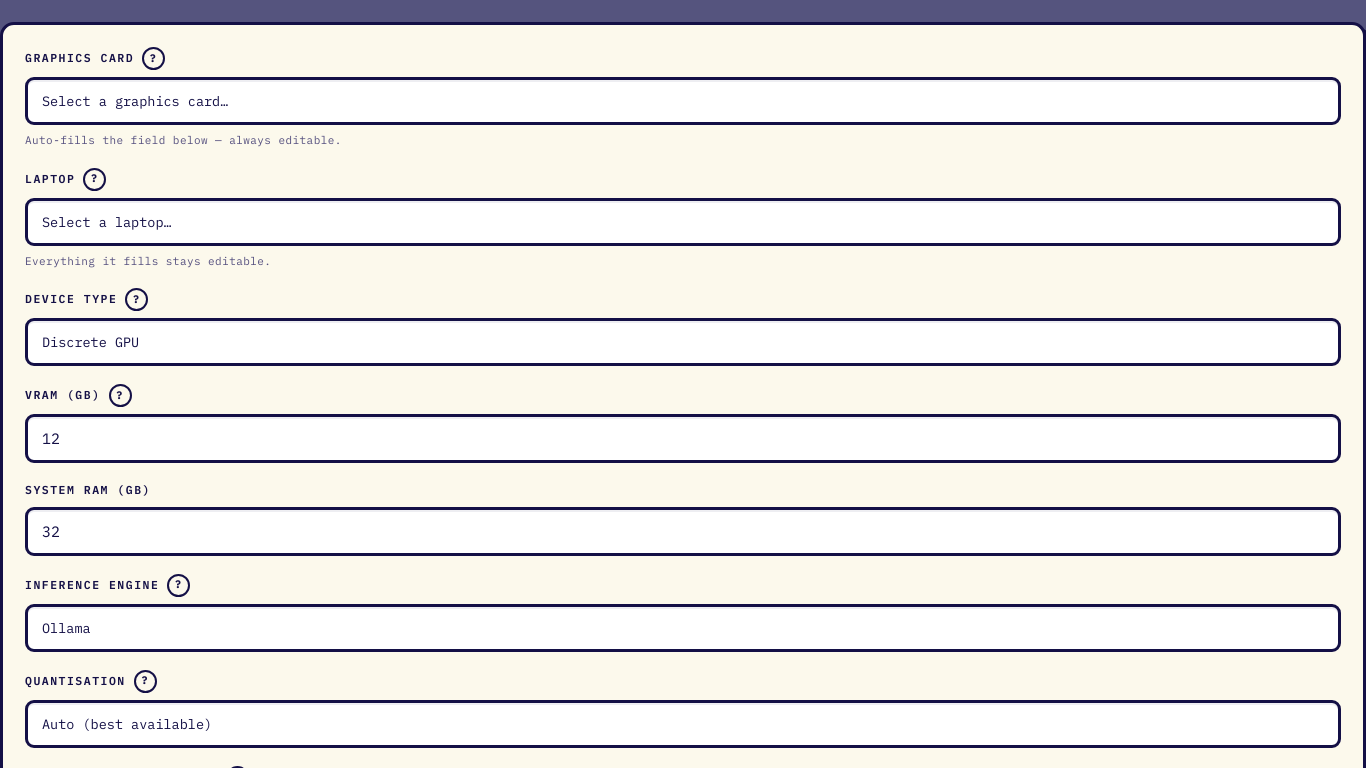
Test: HardwarePanel › writes a manual VRAM edit straight into form state
Replace the text in the number field labelled "VRAM (GB) ?" with "24": (683, 439) [25,414,1341,463]
(page scrolled)
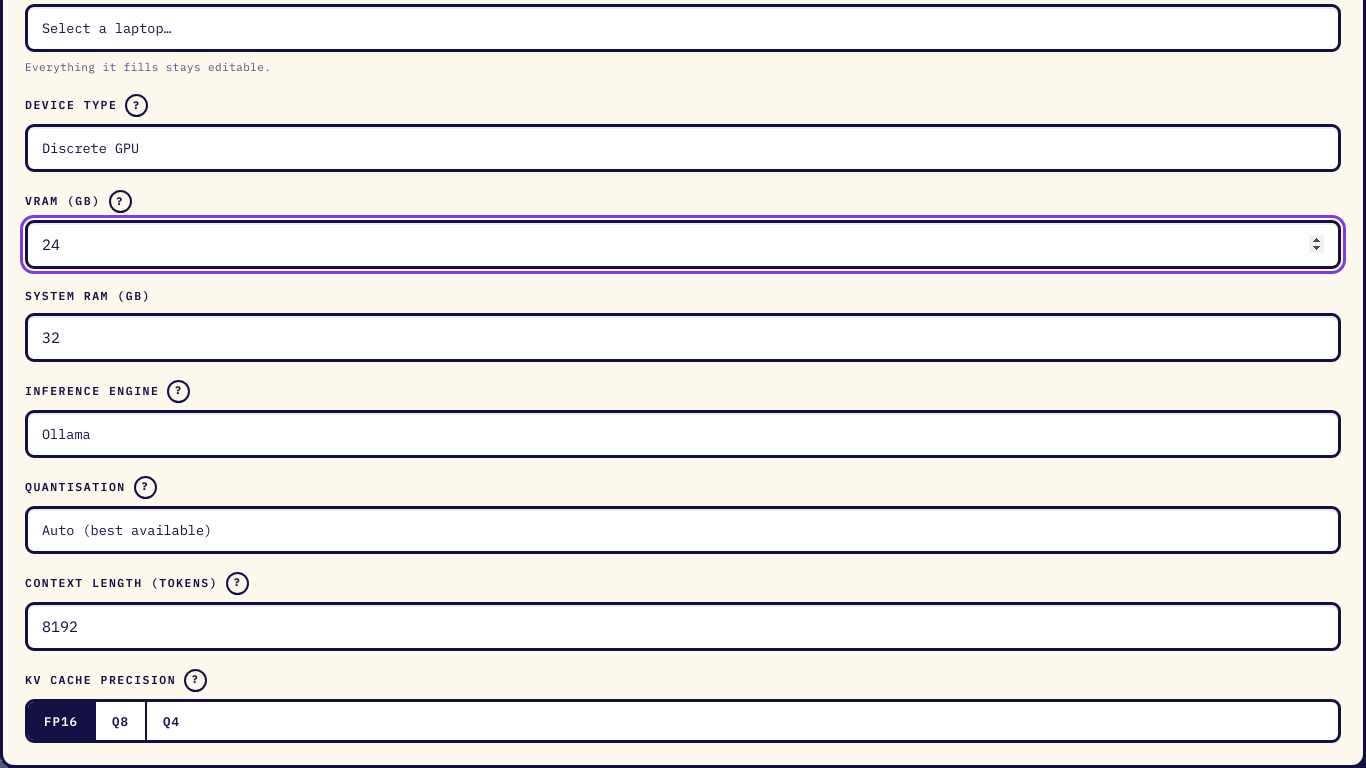
Result: the text with test id "vram" reads "24000000000" at [0,746,99,765]
